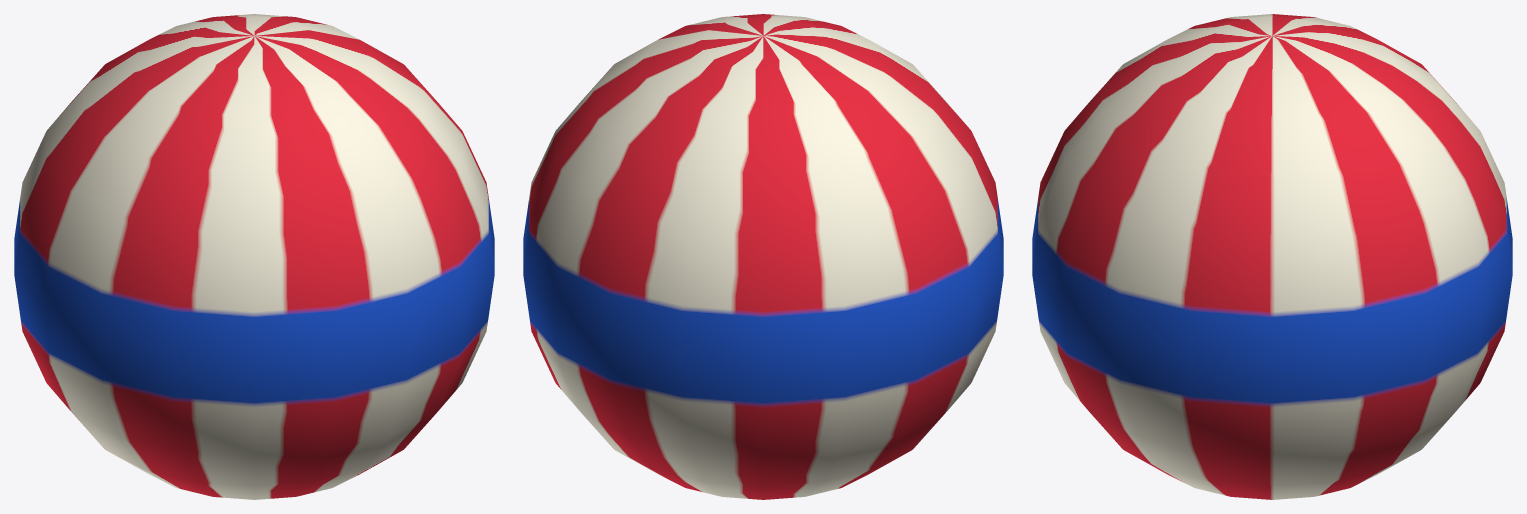
Rendered from bola_mulligan.gltf.
The picture shows the model from 3 angles, left to right: view 1: azimuth 30°, elevation 25°; view 2: azimuth 150°, elevation 25°; view 3: azimuth 270°, elevation 25°; orthographic projection.
Visible parts, largest first — view 1: Ball_Mulligan; view 2: Ball_Mulligan; view 3: Ball_Mulligan.
Part boxes in pixels (left/top/right/bottom): Ball_Mulligan: left=14, top=14, right=494, bottom=499; Ball_Mulligan: left=523, top=14, right=1003, bottom=499; Ball_Mulligan: left=1032, top=14, right=1512, bottom=499.
Size of the model in its own units: 0.31 by 0.31 by 0.3053.
1 material, 1 textured.
